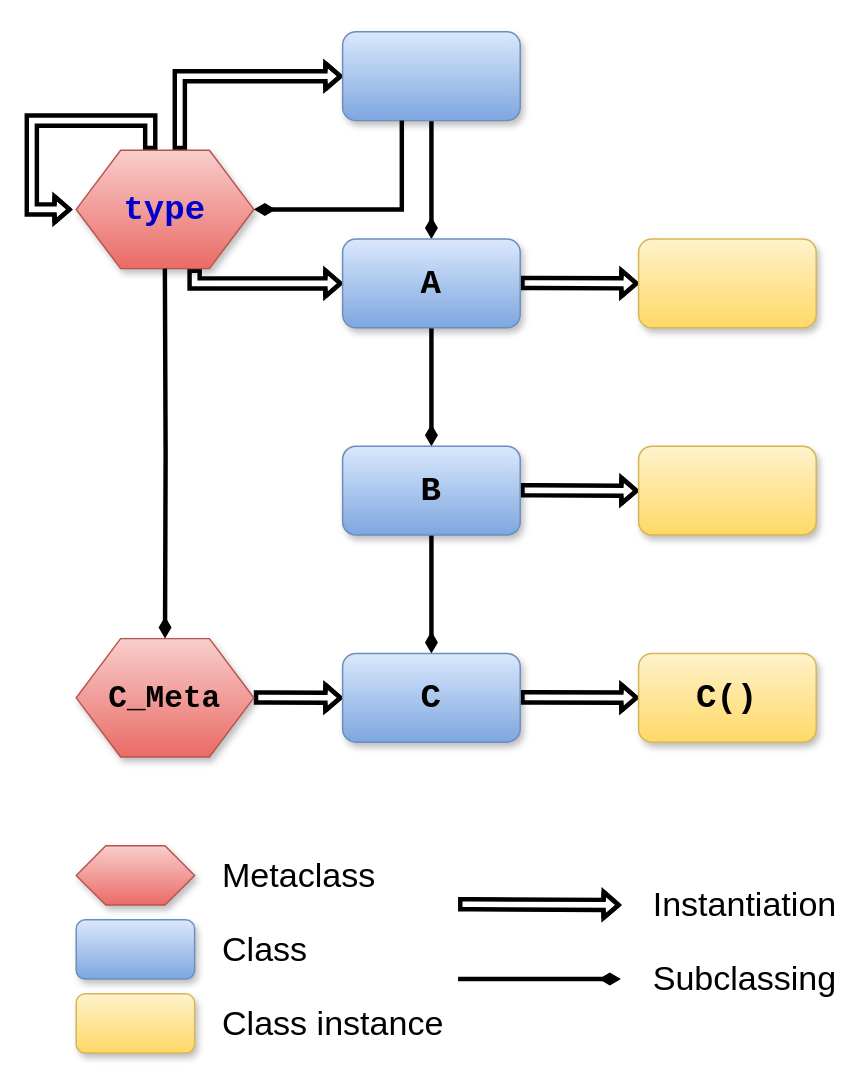
This 863x1089 diagram has some shape labels left out. The shapes that lost their labels are listed below. From the top down, each one's centre as x and y in pixels, then its label:
At point (432, 77): "object".
At point (728, 285): "A()".
At point (728, 492): "B()".
